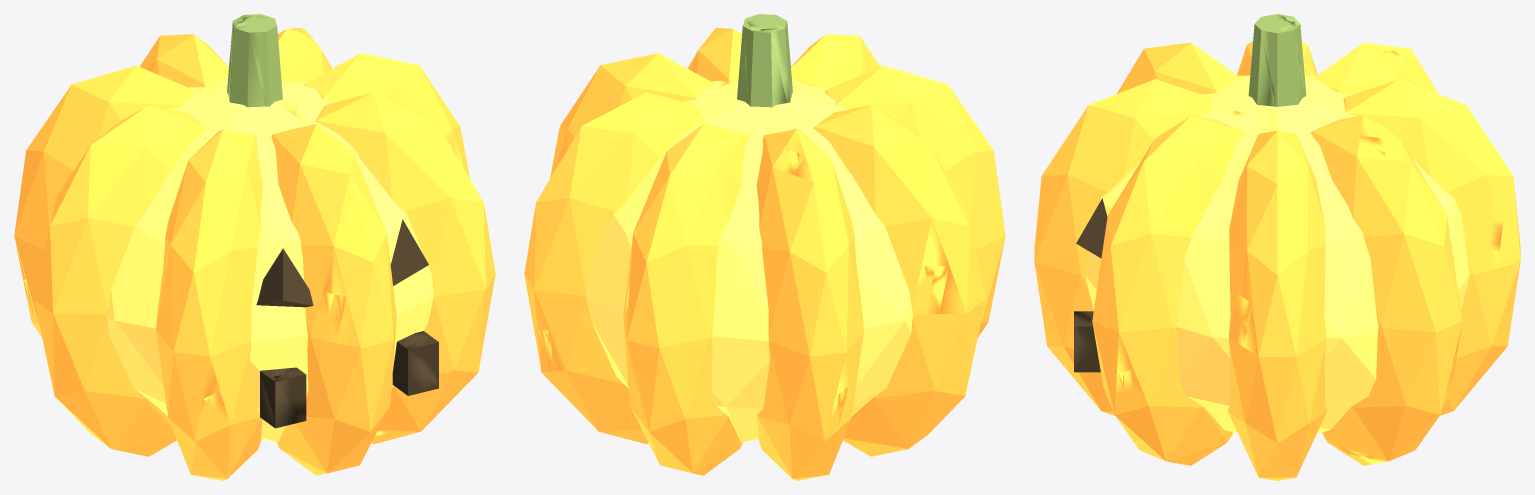
File: halloween_pumpkin.glb
3 views of the same model, side by side, from view 1: azimuth 30°, elevation 25°; view 2: azimuth 150°, elevation 25°; view 3: azimuth 270°, elevation 25° (orthographic).
Parts seen in each view (by area): view 1: Pumpkin; view 2: Pumpkin; view 3: Pumpkin.
Part boxes in pixels (x1,y1,x2,y2): Pumpkin: [14, 14, 495, 480]; Pumpkin: [524, 14, 1005, 480]; Pumpkin: [1034, 14, 1520, 480].
Size of the model in its own units: 1.91 by 1.76 by 1.91.
